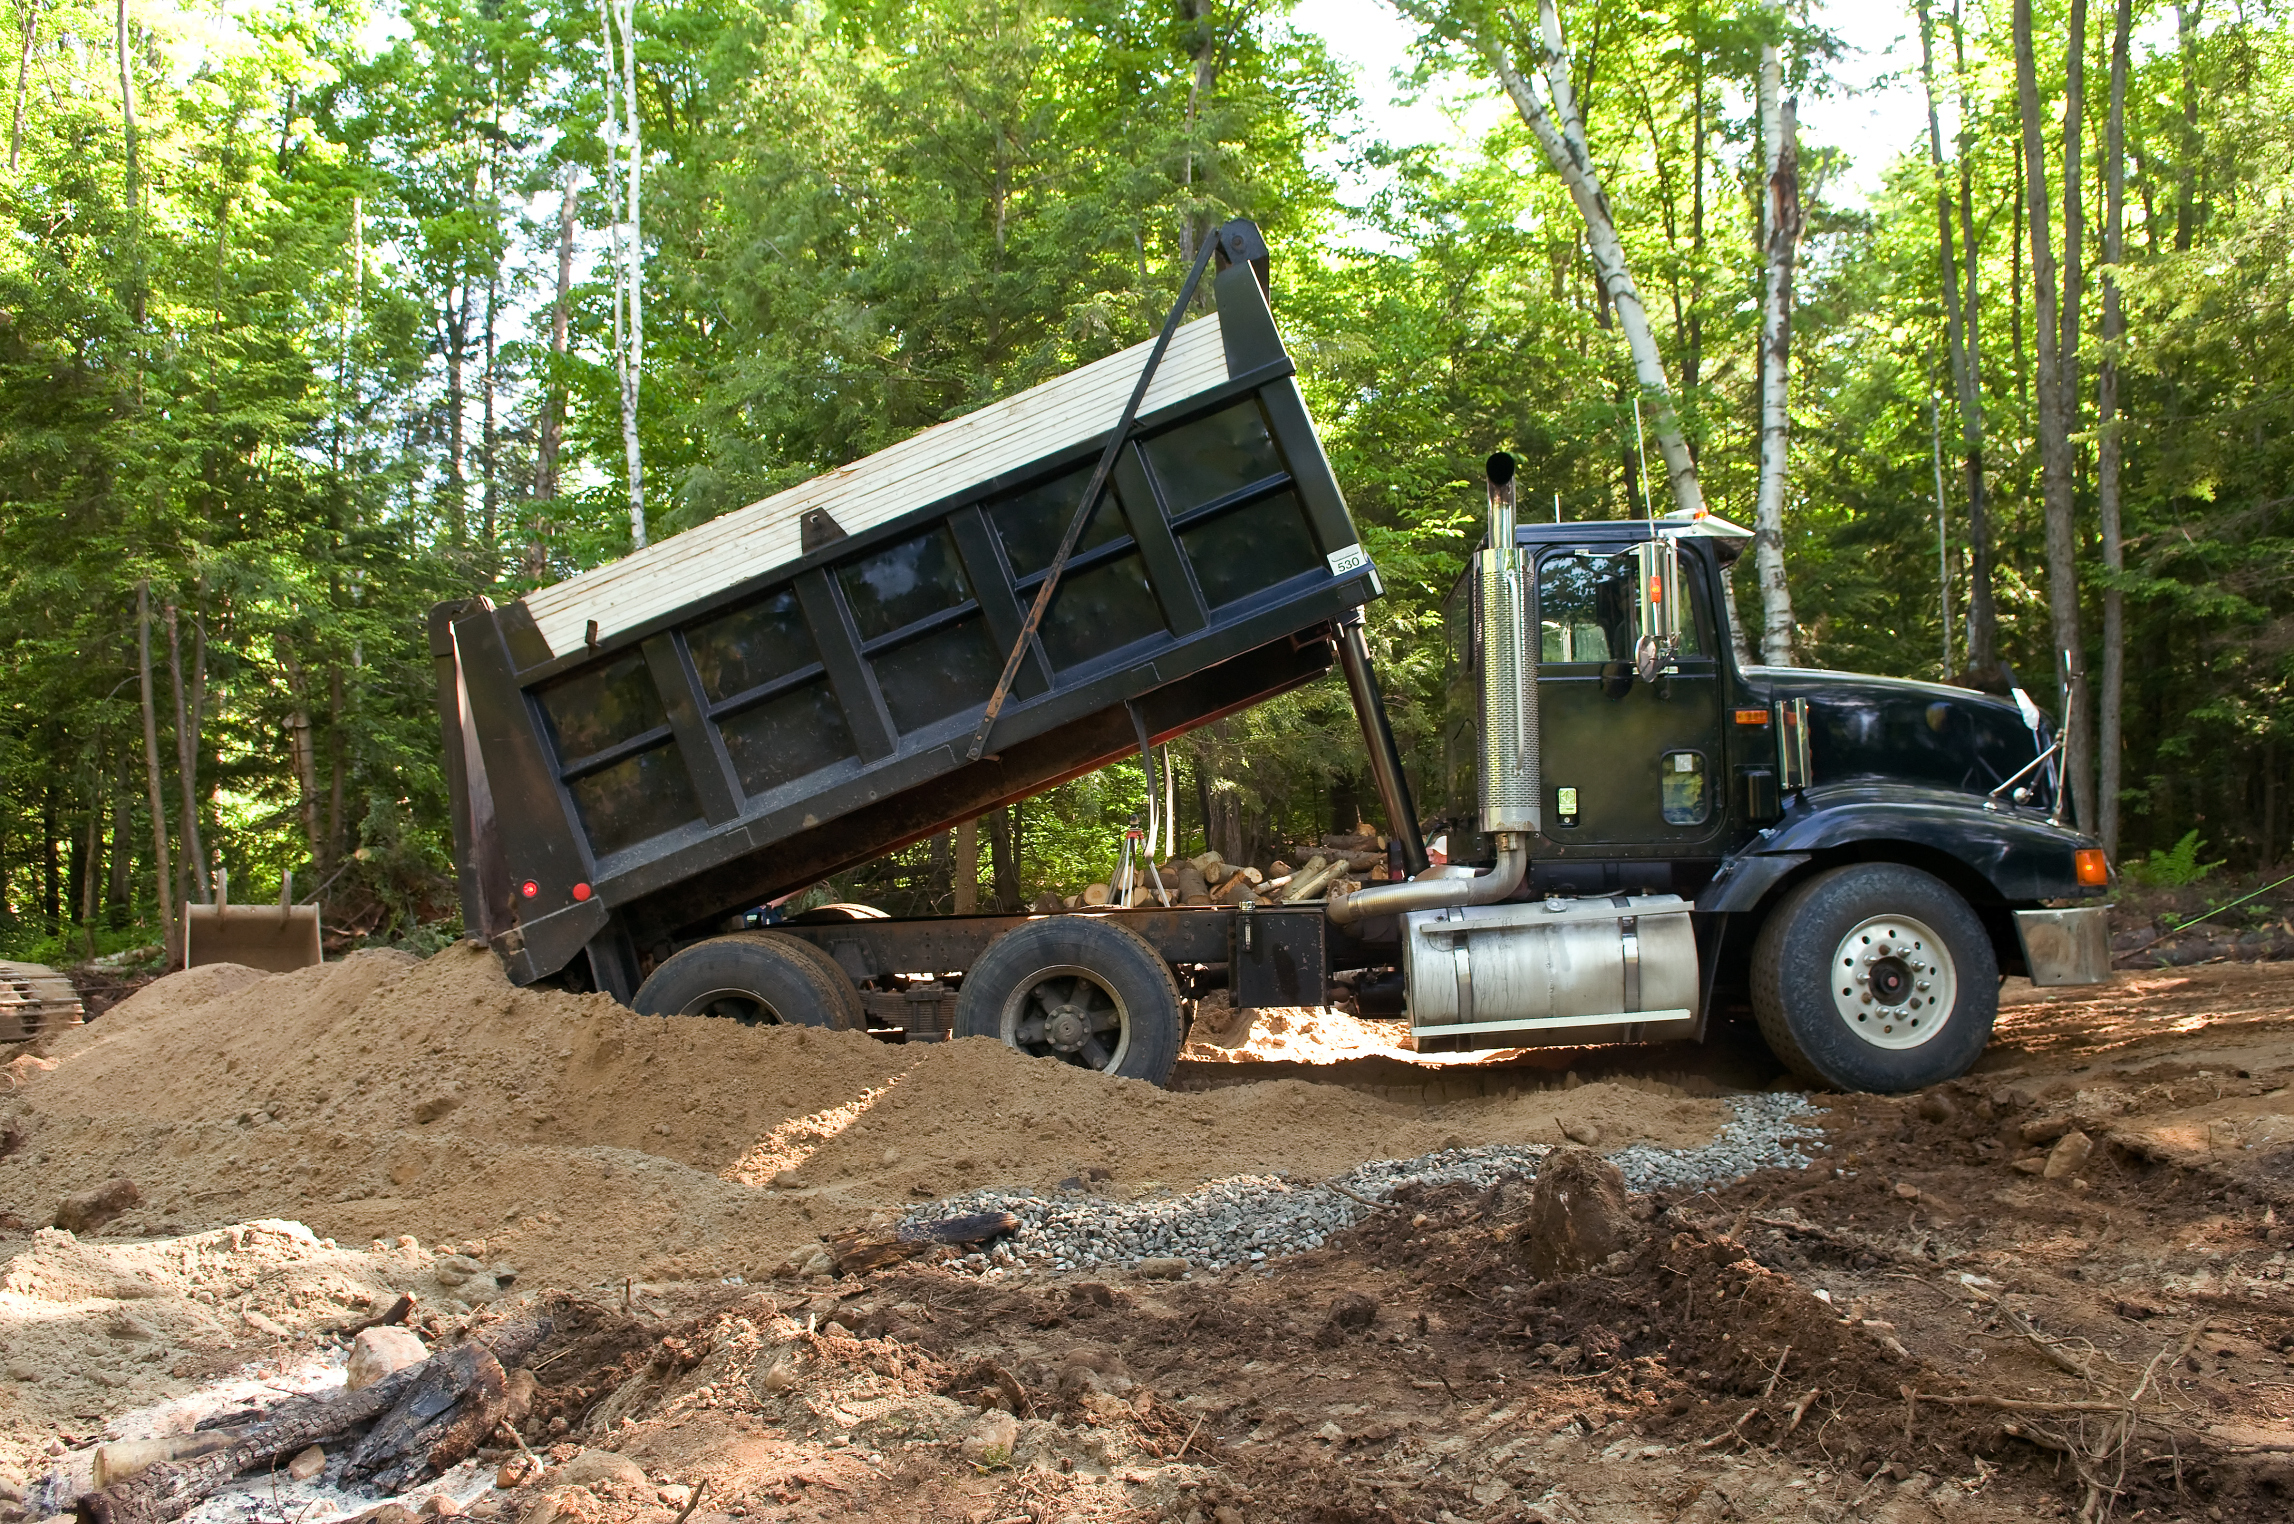truck: (384, 219, 2146, 1141)
